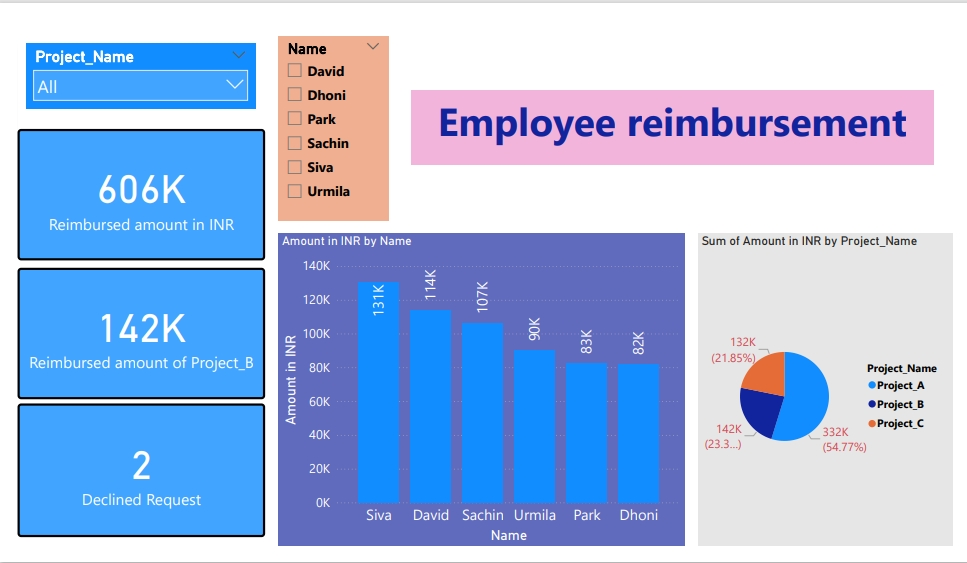

The page's visual inventory and layout, read from the dashboard file:
{"tool":"powerbi","page":{"name":"ch_2_practice","canvas":[1280,720],"ordinal":0},"visuals":[{"type":"card","fields":{"Values":["fact_reimbursement.sum of reimbursed amount in INR"]},"box":[0,149.5,339.3,179.7],"z":0},{"type":"card","fields":{"Values":["Table.Project_B"]},"box":[0,339.3,339.3,179.7],"z":1000},{"type":"card","fields":{"Values":["Table.Measure"]},"box":[0,525.8,339.3,183.1],"z":2000},{"type":"slicer","fields":{"Values":["fact_reimbursement.Project_Name"]},"box":[11.8,33.6,314.1,89],"z":3000},{"type":"columnChart","fields":{"Category":["Dim_employee.Name"],"Y":["fact_reimbursement.Amount in INR"]},"box":[357.1,292,555.7,428.9],"z":4000},{"type":"slicer","fields":{"Values":["Dim_employee.Name"]},"box":[357.8,23.5,151.2,252],"z":5000},{"type":"pieChart","fields":{"Category":["fact_reimbursement.Project_Name"],"Y":["fact_reimbursement.Amount in INR"]},"box":[932.3,292.3,347.7,428.3],"z":6000},{"type":"textbox","box":[539,96.8,715.9,101.8],"z":7000}]}

Visuals, with their boxes in screenshot pixels (x1, y1, x2, y2):
card - fact_reimbursement.sum of reimbursed amount in INR: [x1=15, y1=130, x2=259, y2=259]
card - Table.Project_B: [x1=15, y1=266, x2=259, y2=396]
card - Table.Measure: [x1=15, y1=401, x2=259, y2=532]
slicer - fact_reimbursement.Project_Name: [x1=24, y1=47, x2=249, y2=111]
columnChart - Dim_employee.Name x fact_reimbursement.Amount in INR: [x1=272, y1=232, x2=671, y2=541]
slicer - Dim_employee.Name: [x1=272, y1=40, x2=381, y2=221]
pieChart - fact_reimbursement.Project_Name x fact_reimbursement.Amount in INR: [x1=685, y1=233, x2=935, y2=540]
textbox: [x1=402, y1=92, x2=917, y2=165]
